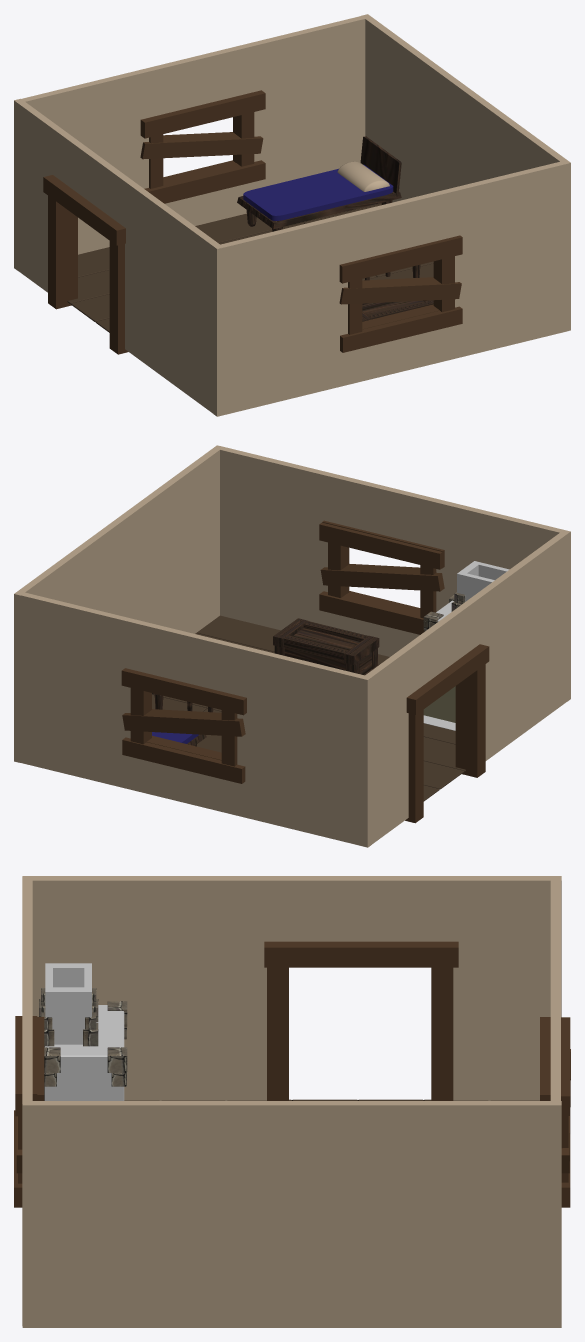
File: house).fbx
3 renders of one model, top to bottom at view 1: azimuth 30°, elevation 25°; view 2: azimuth 150°, elevation 25°; view 3: azimuth 270°, elevation 25°, orthographic. The views are drawn at different scales.
Visible parts, largest first — view 1: стена 3, стена 4, стена2, стена1, na oknax, pol.004, matras, Cube.007, bad, дерево на окне, Cube.008, Cube.006 (+1 smaller); view 2: стена 4, стена 3, стена2, стена1, na oknax, pol.004, Cube.006, kamin, Cube.008, Cube.007, box, Cube.003 (+1 smaller); view 3: стена1, стена2, kamin, Cube.008, na oknax, Cube.007, Cube.006, стена 3, стена 4, kamni2, дерево на окне, kamni.
Boxes of the visible parts, box(x1,y1,x2,y2) form: стена 3: box(213, 160, 568, 416); стена 4: box(14, 16, 365, 270); стена2: box(14, 98, 223, 413); стена1: box(361, 14, 570, 330); na oknax: box(140, 90, 462, 352); pol.004: box(67, 203, 433, 332); matras: box(243, 164, 393, 220); Cube.007: box(48, 196, 77, 309); bad: box(237, 136, 401, 231); дерево на окне: box(339, 235, 462, 283); Cube.008: box(43, 175, 125, 245); Cube.006: box(109, 241, 128, 354); стена 4: box(21, 592, 371, 847); стена 3: box(216, 446, 570, 701); стена2: box(361, 530, 570, 847); стена1: box(14, 445, 219, 762); na oknax: box(121, 522, 444, 783); pol.004: box(152, 615, 465, 801); Cube.006: box(455, 664, 485, 777); kamin: box(423, 561, 509, 730); Cube.008: box(406, 644, 489, 714); Cube.007: box(405, 709, 423, 823); box: box(284, 628, 371, 674); Cube.003: box(284, 621, 367, 661); стена1: box(22, 1101, 561, 1327); стена2: box(22, 876, 561, 1100); kamin: box(44, 963, 124, 1100); Cube.008: box(264, 941, 458, 967); na oknax: box(14, 1017, 570, 1207); Cube.007: box(431, 967, 453, 1100); Cube.006: box(267, 967, 288, 1100); стена 3: box(22, 876, 32, 1325); стена 4: box(550, 880, 560, 1100); kamni2: box(44, 1001, 127, 1086); дерево на окне: box(15, 1016, 37, 1116); kamni: box(39, 988, 98, 1046).
Size of what is drawn, in the model's own units: 207 by 93.13 by 207.
